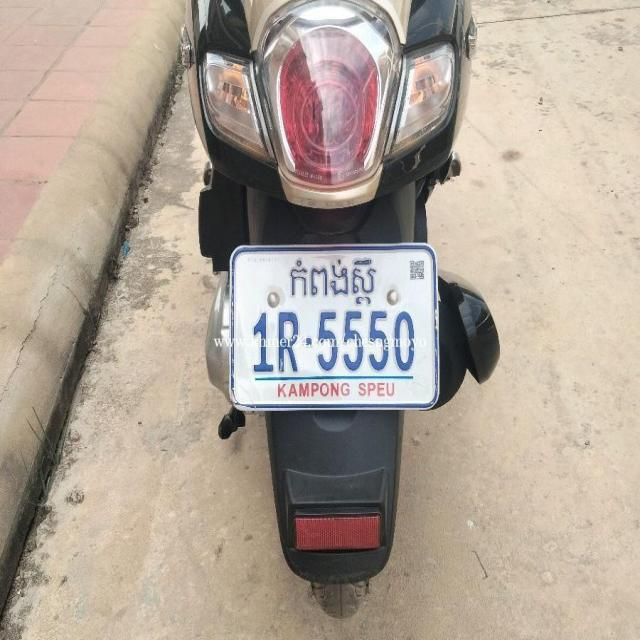Kampong_Speu: (288, 251, 379, 306)
